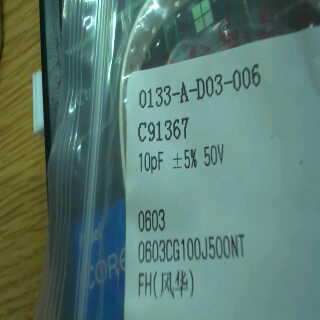10pF: (134, 147, 170, 180)
